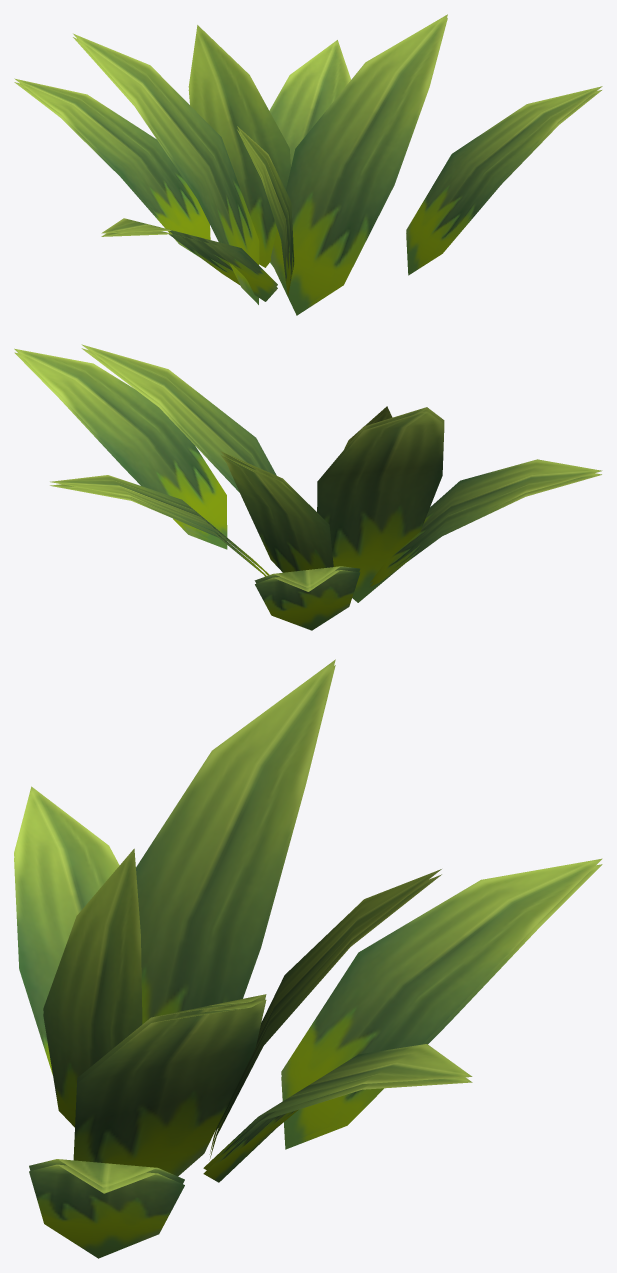
Rendered from scenes_construction_grass02a.FBX.
3 views of the same model, one above another, from view 1: azimuth 30°, elevation 25°; view 2: azimuth 150°, elevation 25°; view 3: azimuth 270°, elevation 25° (orthographic). The views are drawn at different scales.
Parts seen in each view (by area): view 1: scenes_construction_grass02a; view 2: scenes_construction_grass02a; view 3: scenes_construction_grass02a.
Part boxes in pixels (left/top/right/bottom): scenes_construction_grass02a: left=14, top=14, right=602, bottom=315; scenes_construction_grass02a: left=14, top=344, right=602, bottom=630; scenes_construction_grass02a: left=14, top=659, right=602, bottom=1258.
Size of the model in its own units: 141 by 70.38 by 86.47.
